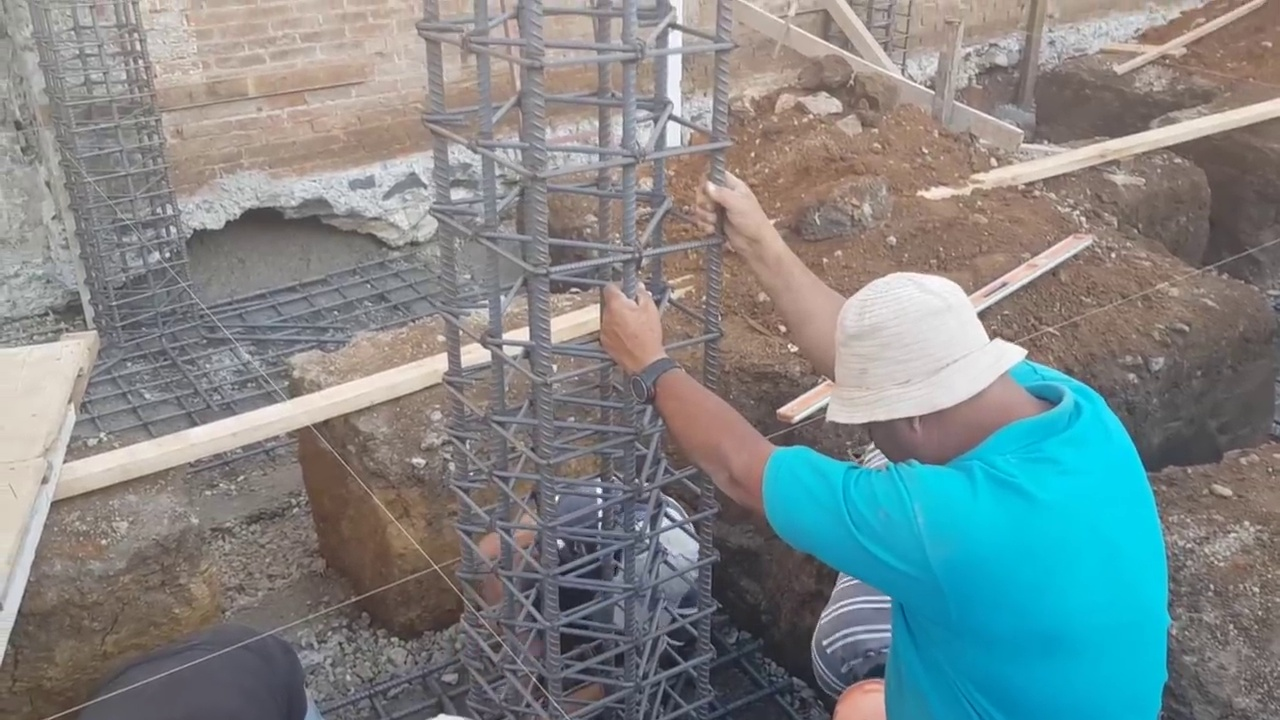helmet: (480, 514, 538, 602), (829, 682, 888, 717)
helmet-off: (828, 270, 1069, 468)
helmet-on: (480, 494, 564, 602), (829, 659, 895, 714)
person: (597, 165, 1173, 716), (480, 470, 700, 664), (806, 566, 897, 717)
